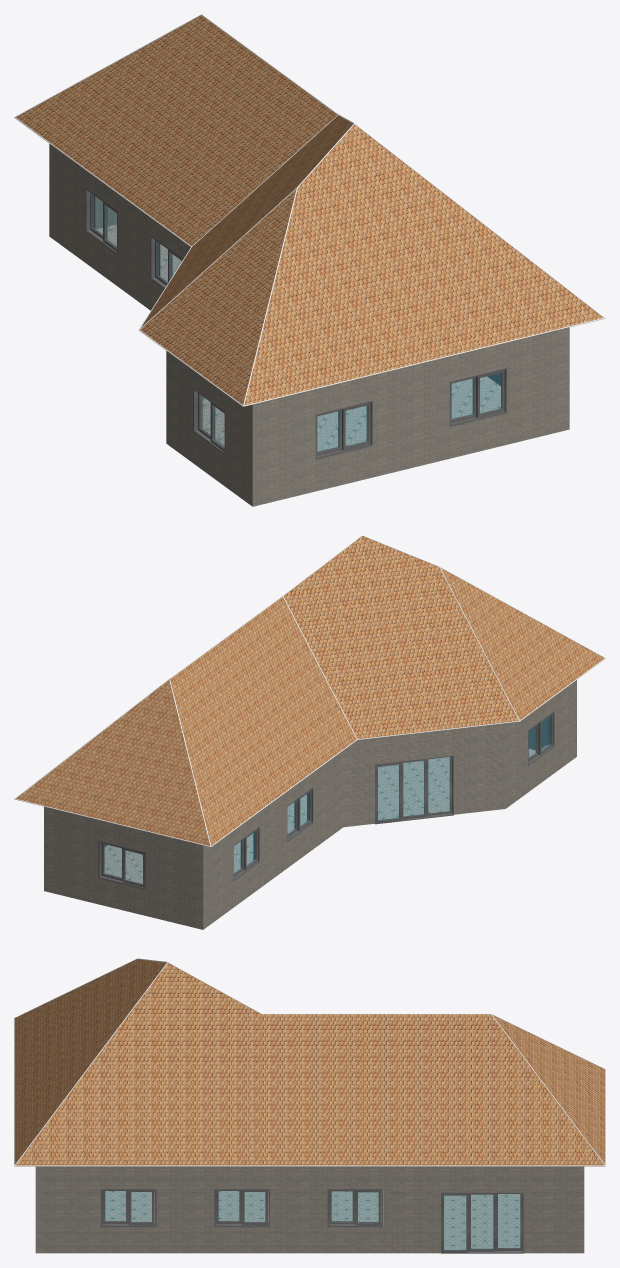
File: telhado32a.glb
3 views of the same model, one above another, from view 1: azimuth 30°, elevation 25°; view 2: azimuth 150°, elevation 25°; view 3: azimuth 270°, elevation 25° (orthographic). The views are drawn at different scales.
Visible parts, largest first — view 1: root; view 2: root; view 3: root.
Boxes of the visible parts, box(x1,y1,x2,y2) form: root: box(14, 14, 605, 506); root: box(14, 535, 605, 929); root: box(14, 958, 605, 1253).
Bounding box in the file's own units: 11.55 × 8.59 × 19.49.
Materials: 9 (5 with a texture image).
